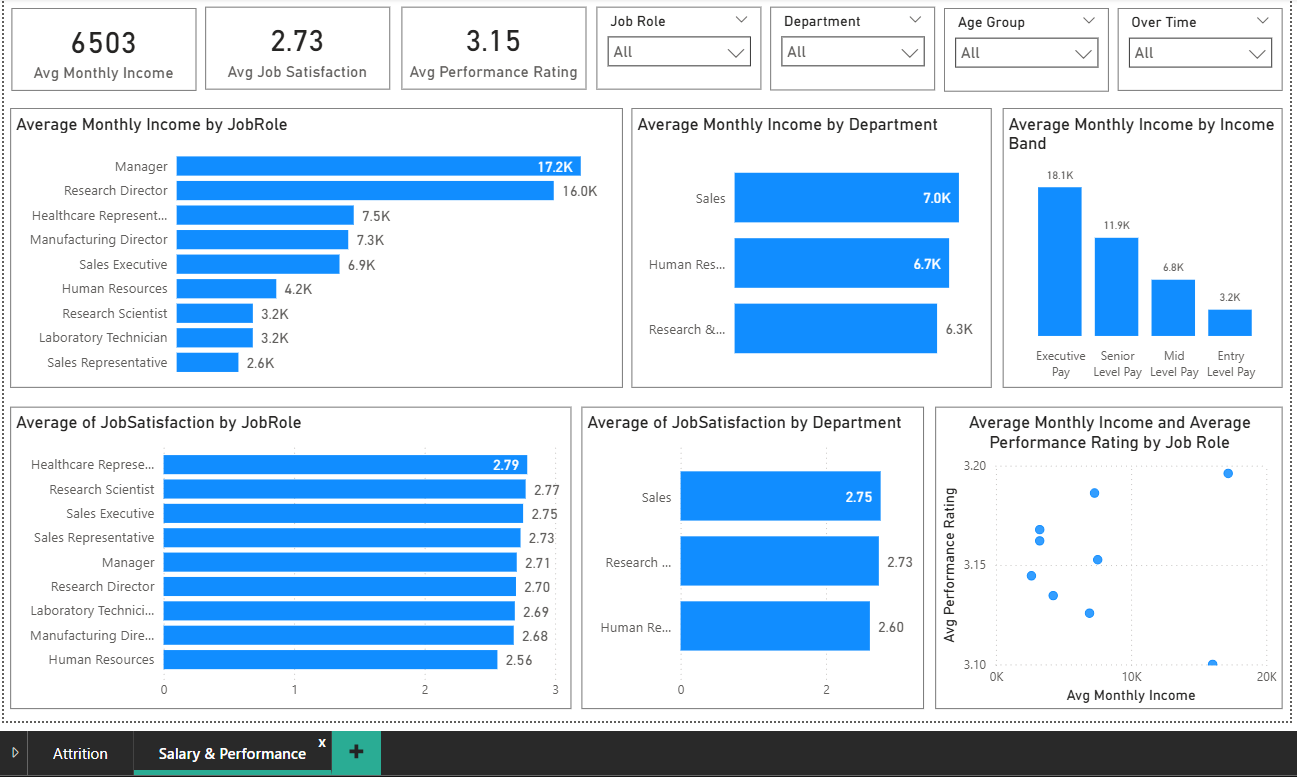

The dashboard page shown, as its layout file describes it:
{"tool":"powerbi","page":{"name":"Salary & Performance","canvas":[1280,720],"ordinal":1},"visuals":[{"type":"card","fields":{"Values":["Avg(hr_employees.PerformanceRating)"]},"box":[395.6,8.7,184.1,82.1],"z":0},{"type":"card","fields":{"Values":["Avg(hr_employees.MonthlyIncome)"]},"box":[7.5,10,184.1,82.1],"z":1},{"type":"slicer","fields":{"Values":["hr_employees.JobRole"]},"box":[589.6,8.7,164.2,82.1],"z":2},{"type":"card","fields":{"Values":["Avg(hr_employees.JobSatisfaction)"]},"box":[200.3,8.7,184.1,82.1],"z":3},{"type":"clusteredBarChart","title":"Average Monthly Income by JobRole","fields":{"Category":["hr_employees.JobRole"],"Y":["Avg(hr_employees.MonthlyIncome)"]},"box":[6.2,109.5,609.5,278.6],"z":4},{"type":"clusteredBarChart","title":"Average Monthly Income by Department","fields":{"Y":["Avg(hr_employees.MonthlyIncome)"],"Category":["hr_employees.Department"]},"box":[624.5,109.5,358.3,278.6],"z":5},{"type":"barChart","fields":{"Y":["Avg(hr_employees.JobSatisfaction)"],"Category":["hr_employees.JobRole"]},"box":[6.2,406.8,558.5,301],"z":6},{"type":"barChart","fields":{"Y":["Avg(hr_employees.JobSatisfaction)"],"Category":["hr_employees.Department"]},"box":[574.7,406.8,340.8,301],"z":7},{"type":"columnChart","title":"Average Monthly Income by Income Band","fields":{"Category":["hr_employees.Income Band"],"Y":["Avg(hr_employees.MonthlyIncome)"]},"box":[993.9,109.5,278.6,278.6],"z":8},{"type":"scatterChart","title":"Average Monthly Income and Average Performance Rating by Job Role","fields":{"X":["Avg(hr_employees.MonthlyIncome)"],"Y":["Avg(hr_employees.PerformanceRating)"],"Category":["hr_employees.JobRole"]},"box":[926.7,406.8,345.8,301],"z":9},{"type":"slicer","fields":{"Values":["hr_employees.AgeGroup"]},"box":[935.5,10,164.2,83.3],"z":10},{"type":"slicer","fields":{"Values":["hr_employees.OverTime"]},"box":[1108.4,10,164.2,82.1],"z":11},{"type":"slicer","fields":{"Values":["hr_employees.Department"]},"box":[762.5,8.7,164.2,83.3],"z":12}]}

Visuals, with their boxes on the page's 1280x720 design canvas (x1, y1, x2, y2). These are canvas units, not pixel positions in the 1297x777 screenshot, which may show the page scaled, cropped or inside an application window:
card - Avg(hr_employees.PerformanceRating): {"left": 396, "top": 9, "right": 580, "bottom": 91}
card - Avg(hr_employees.MonthlyIncome): {"left": 8, "top": 10, "right": 192, "bottom": 92}
slicer - hr_employees.JobRole: {"left": 590, "top": 9, "right": 754, "bottom": 91}
card - Avg(hr_employees.JobSatisfaction): {"left": 200, "top": 9, "right": 384, "bottom": 91}
"Average Monthly Income by JobRole" clusteredBarChart: {"left": 6, "top": 110, "right": 616, "bottom": 388}
"Average Monthly Income by Department" clusteredBarChart: {"left": 624, "top": 110, "right": 983, "bottom": 388}
barChart - Avg(hr_employees.JobSatisfaction) x hr_employees.JobRole: {"left": 6, "top": 407, "right": 565, "bottom": 708}
barChart - Avg(hr_employees.JobSatisfaction) x hr_employees.Department: {"left": 575, "top": 407, "right": 916, "bottom": 708}
"Average Monthly Income by Income Band" columnChart: {"left": 994, "top": 110, "right": 1272, "bottom": 388}
"Average Monthly Income and Average Performance Rating by Job Role" scatterChart: {"left": 927, "top": 407, "right": 1272, "bottom": 708}
slicer - hr_employees.AgeGroup: {"left": 936, "top": 10, "right": 1100, "bottom": 93}
slicer - hr_employees.OverTime: {"left": 1108, "top": 10, "right": 1273, "bottom": 92}
slicer - hr_employees.Department: {"left": 762, "top": 9, "right": 927, "bottom": 92}
